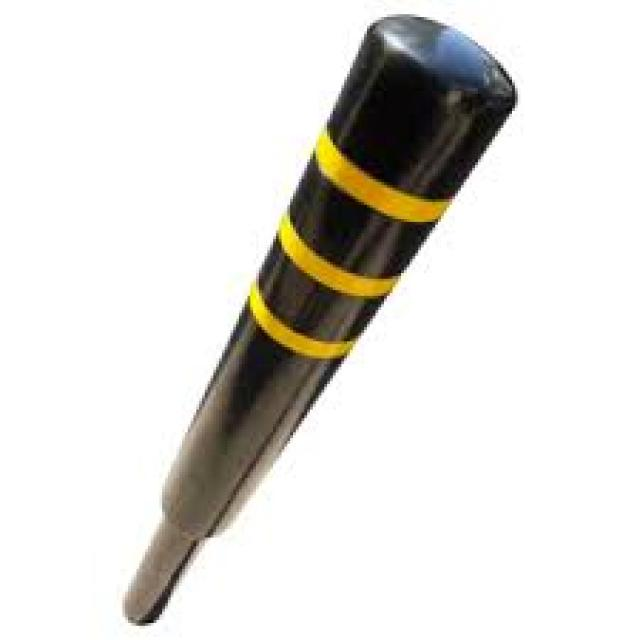bollard: (99, 6, 533, 632)
